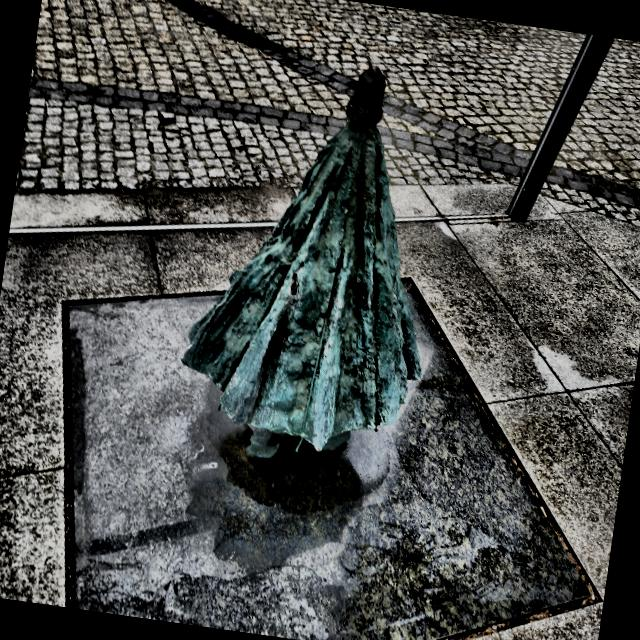Parasolniki: (181, 68, 421, 462)
